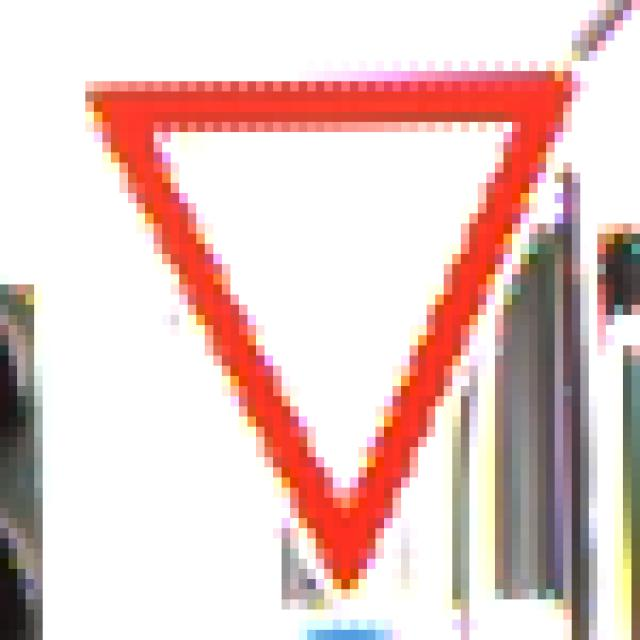Give Way: (61, 52, 590, 580)
